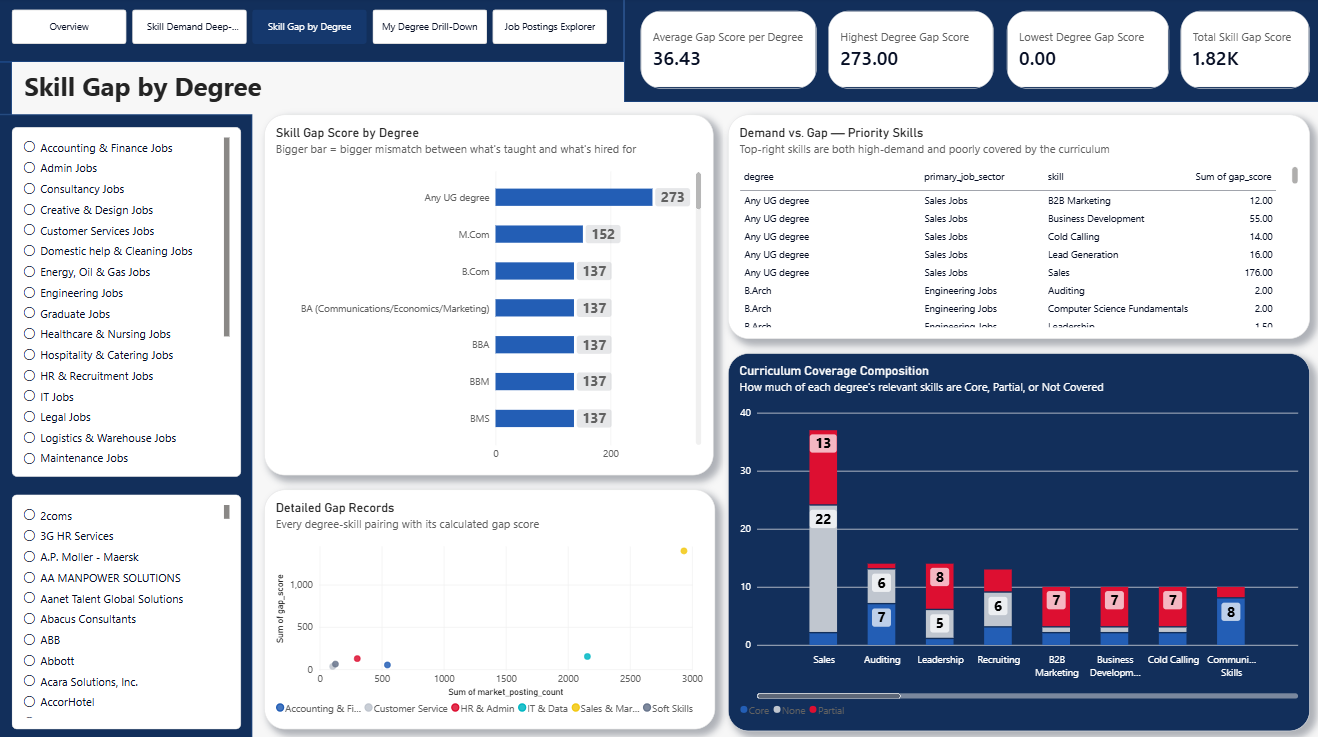

The page's visual inventory and layout, read from the dashboard file:
{"tool":"powerbi","page":{"name":"Skill Gap by Degree","canvas":[1920,1080],"ordinal":2},"visuals":[{"type":"shape","box":[906,0,1014,152],"z":0},{"type":"cardVisual","fields":{"Data":["_Measure.Average Gap Score per Degree"]},"box":[930,20,255,112.5],"z":1000},{"type":"cardVisual","fields":{"Data":["_Measure.Highest Degree Gap Score"]},"box":[1202.5,20,240,112.5],"z":2000},{"type":"cardVisual","fields":{"Data":["_Measure.Total Skill Gap Score"]},"box":[1712.5,20,187.5,112.5],"z":3000},{"type":"cardVisual","fields":{"Data":["_Measure.Lowest Degree Gap Score"]},"box":[1460,20,235,112.5],"z":4000},{"type":"barChart","title":"Skill Gap Score by Degree","fields":{"Category":["skill_gap_by_degree.degree"],"Y":["Sum(skill_gap_by_degree.gap_score)"]},"box":[385,170,650,522.5],"z":5000},{"type":"scatterChart","title":"Detailed Gap Records","fields":{"X":["Sum(skill_gap_by_degree.market_posting_count)"],"Y":["Sum(skill_gap_by_degree.gap_score)"],"Series":["skill_gap_by_degree.skill_category"]},"box":[385,712.5,652.5,347.5],"z":6000},{"type":"tableEx","title":"Demand vs. Gap — Priority Skills","fields":{"Values":["skill_gap_by_degree.degree","skill_gap_by_degree.primary_job_sector","skill_gap_by_degree.skill","Sum(skill_gap_by_degree.gap_score)"]},"box":[1057.5,170,842.5,325],"z":7000},{"type":"lineStackedColumnComboChart","title":"Curriculum Coverage Composition","fields":{"Category":["skill_gap_by_degree.skill"],"Y":["CountNonNull(skill_gap_by_degree.degree)"],"Series":["skill_gap_by_degree.degree_coverage_level"]},"box":[1057.5,515,842.5,547.5],"z":8000},{"type":"shape","box":[0,0,906,94],"z":9000},{"type":"pageNavigator","box":[20,18,866,50],"z":10000},{"type":"shape","box":[0,94,20,76],"z":11000},{"type":"shape","box":[0,170,368,910],"z":12000},{"type":"listSlicer","fields":{"Values":["job_postings_detail.category"]},"box":[20,188,332,506],"z":13000},{"type":"listSlicer","fields":{"Values":["job_postings_detail.company"]},"box":[20,720,332,340],"z":14000}]}

Visuals, with their boxes on the page's 1920x1080 design canvas (x1, y1, x2, y2). These are canvas units, not pixel positions in the 1318x737 screenshot, which may show the page scaled, cropped or inside an application window:
shape: [906,0,1920,152]
cardVisual - _Measure.Average Gap Score per Degree: [930,20,1185,132]
cardVisual - _Measure.Highest Degree Gap Score: [1202,20,1442,132]
cardVisual - _Measure.Total Skill Gap Score: [1712,20,1900,132]
cardVisual - _Measure.Lowest Degree Gap Score: [1460,20,1695,132]
"Skill Gap Score by Degree" barChart: [385,170,1035,692]
"Detailed Gap Records" scatterChart: [385,712,1038,1060]
"Demand vs. Gap — Priority Skills" tableEx: [1058,170,1900,495]
"Curriculum Coverage Composition" lineStackedColumnComboChart: [1058,515,1900,1062]
shape: [0,0,906,94]
pageNavigator: [20,18,886,68]
shape: [0,94,20,170]
shape: [0,170,368,1080]
listSlicer - job_postings_detail.category: [20,188,352,694]
listSlicer - job_postings_detail.company: [20,720,352,1060]
